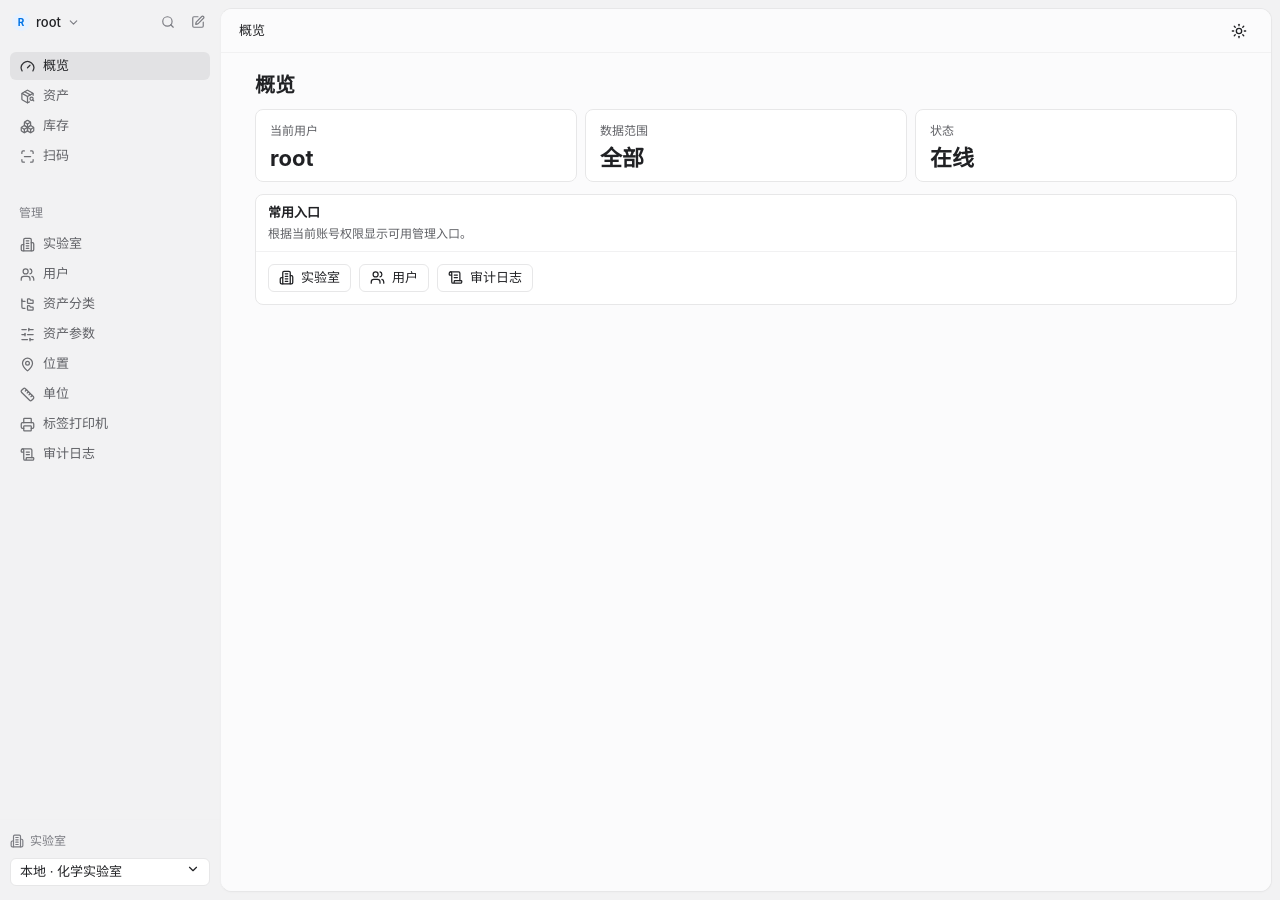
Test: AppShell user menu › offers profile shortcuts and navigates to them
Expected: the heading "概览" is shown, [255,73,295,97]
Click the button "R root" at point(48, 22), box [12,8,85,36]
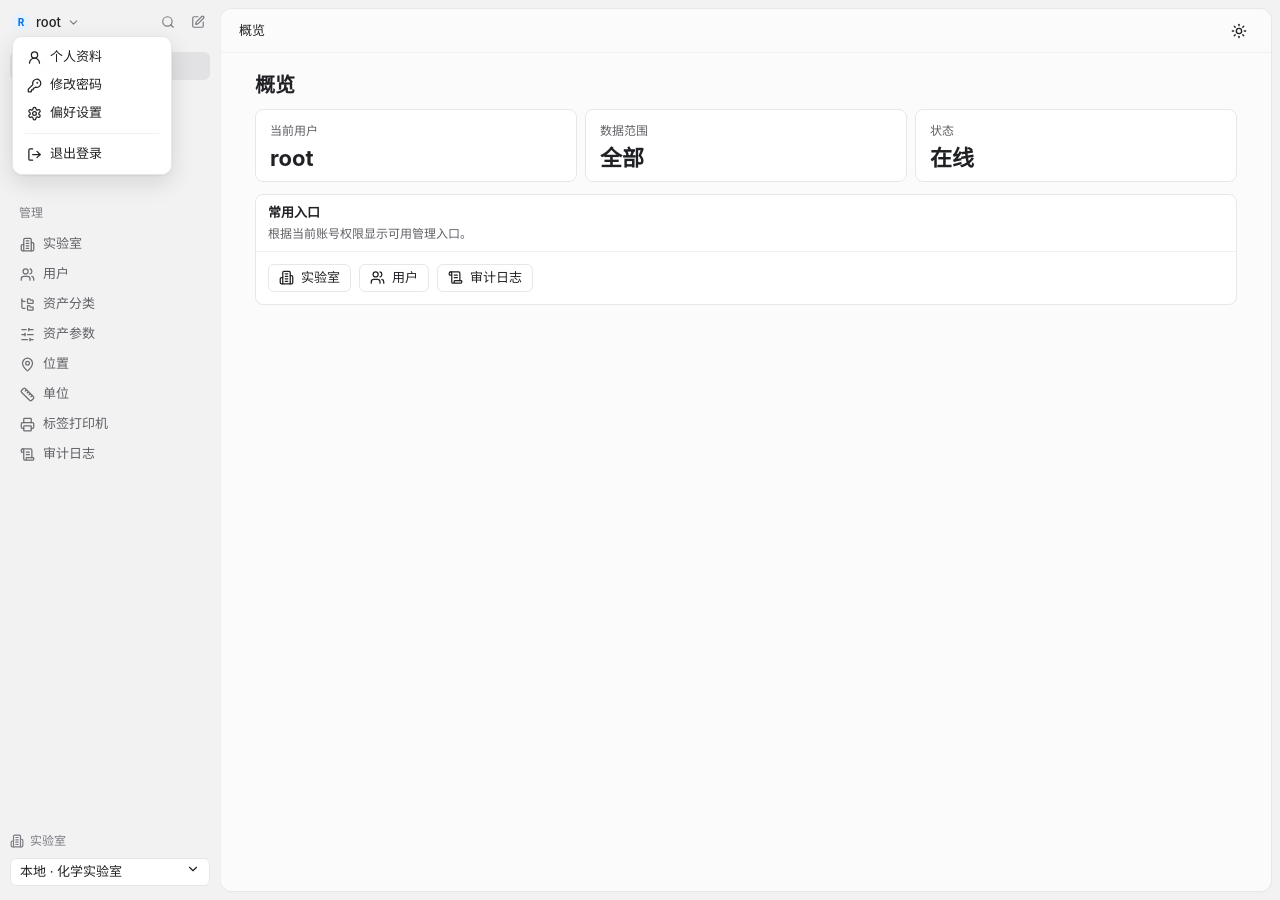
Result: the menu item "个人资料" is shown
Result: the menu item "修改密码" is shown at [27,76,102,93]
Result: the menu item "偏好设置" is shown at [27,104,102,121]
Click the menu item "个人资料" at point(64, 56), box [27,48,102,65]
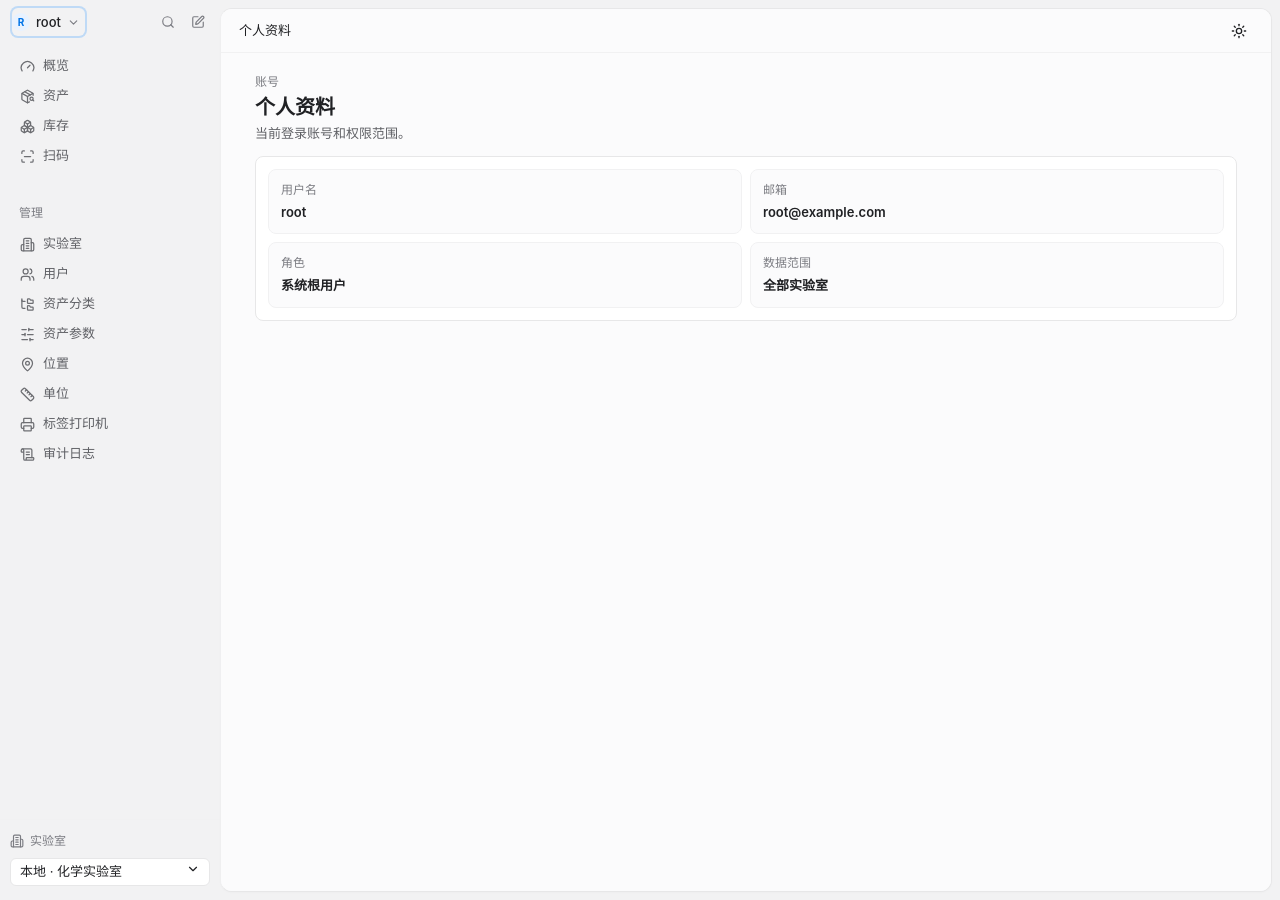
Result: the heading "个人资料" is shown at [255,95,335,119]
